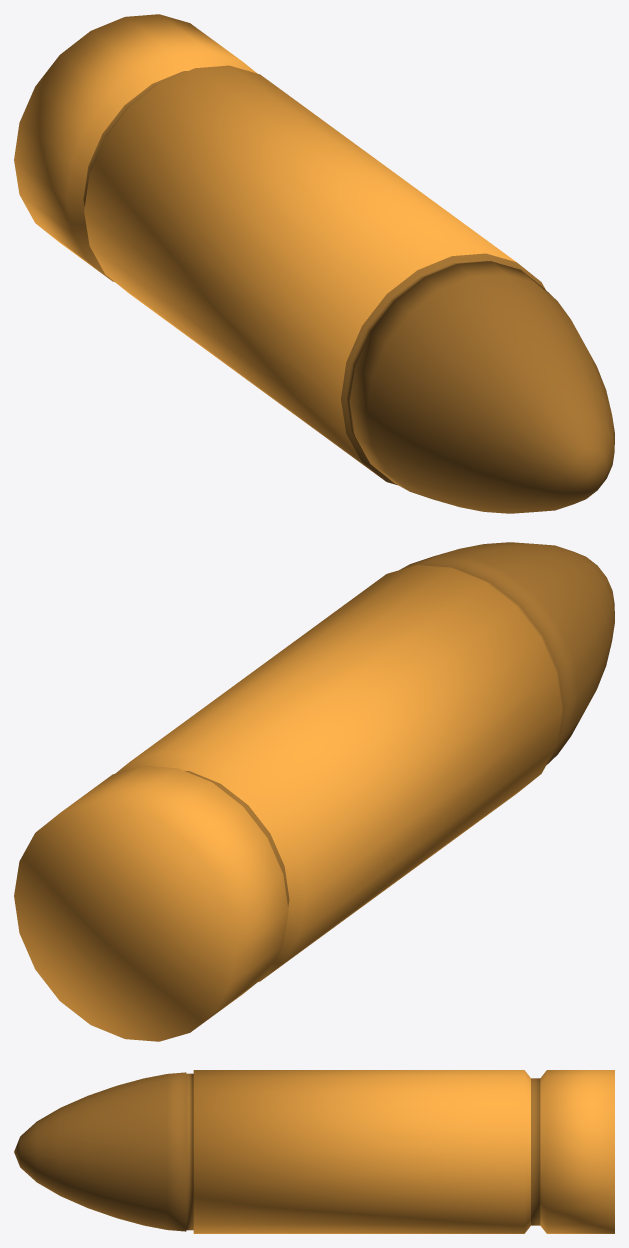
Rendered from BulletAA.fbx.
3 renders of one model, top to bottom at view 1: azimuth 30°, elevation 25°; view 2: azimuth 150°, elevation 25°; view 3: azimuth 270°, elevation 25°, orthographic. The views are drawn at different scales.
Parts seen in each view (by area): view 1: Bullet; view 2: Bullet; view 3: Bullet.
Boxes of the visible parts, left/top/right/bottom form: Bullet: left=14, top=14, right=614, bottom=513; Bullet: left=14, top=542, right=614, bottom=1041; Bullet: left=14, top=1070, right=614, bottom=1233.
Bounding box in the file's own units: 6.55 × 6.55 × 23.86.
